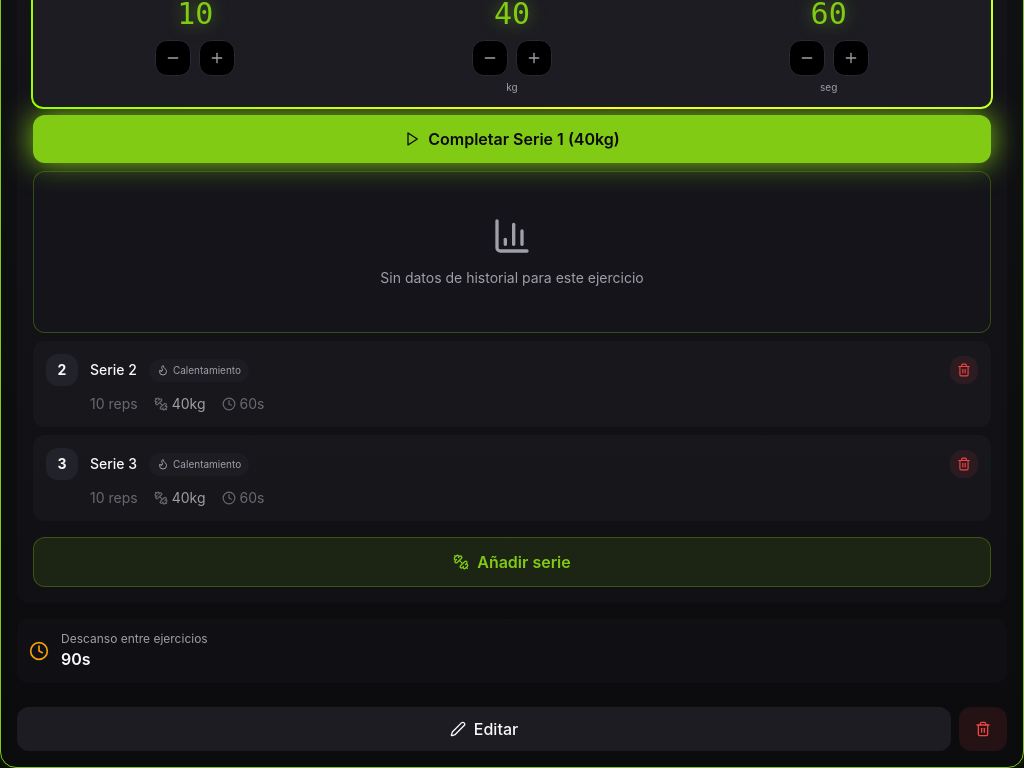
Test: ExerciseCard activo: añadir/eliminar series › eliminar pendiente sin confirmación
(page scrolled)
Click the 2nd button named "Eliminar serie": coordinates (964, 464) [950,450,978,478]
(page scrolled)
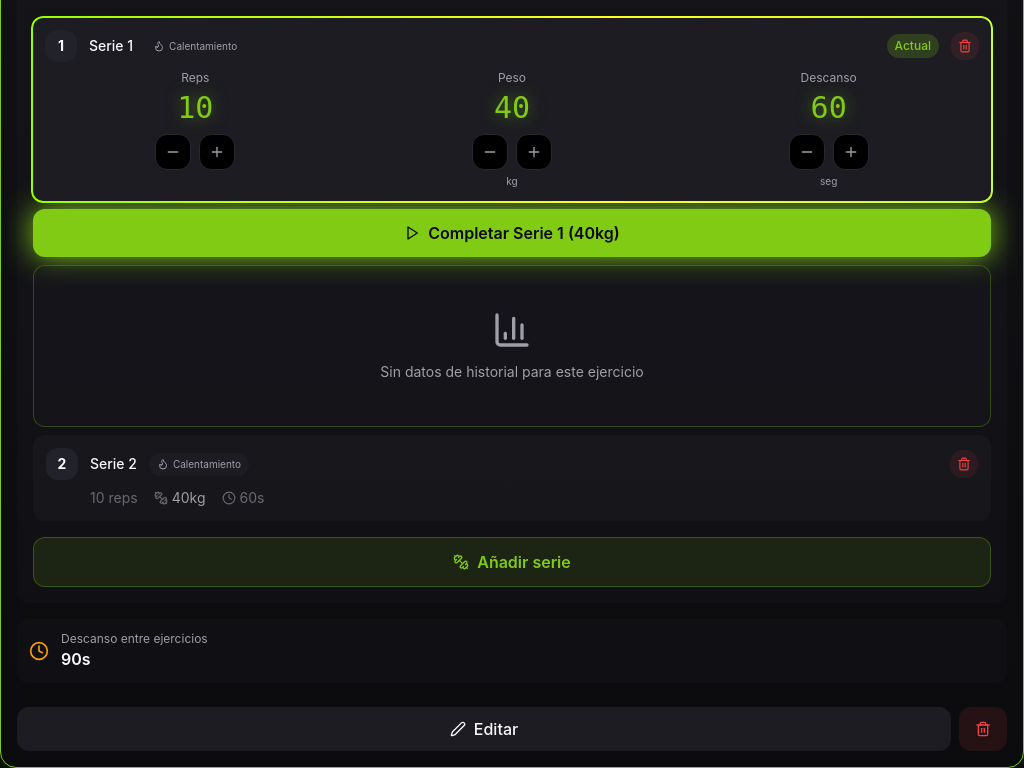
Check: the number of buttons named "Eliminar serie" is 2, box [951,32,979,60]; [950,450,978,478]
